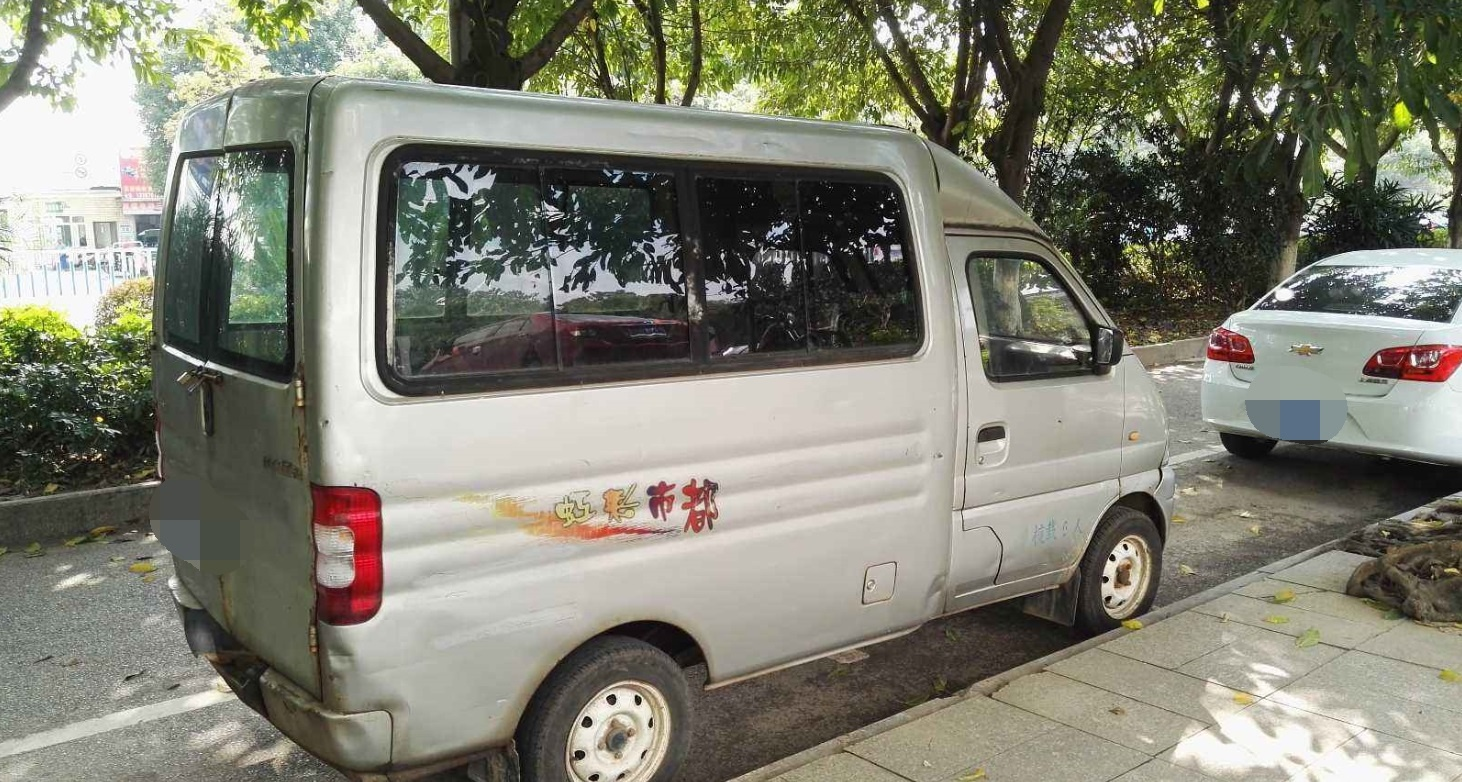minibus: (127, 60, 1221, 782)
